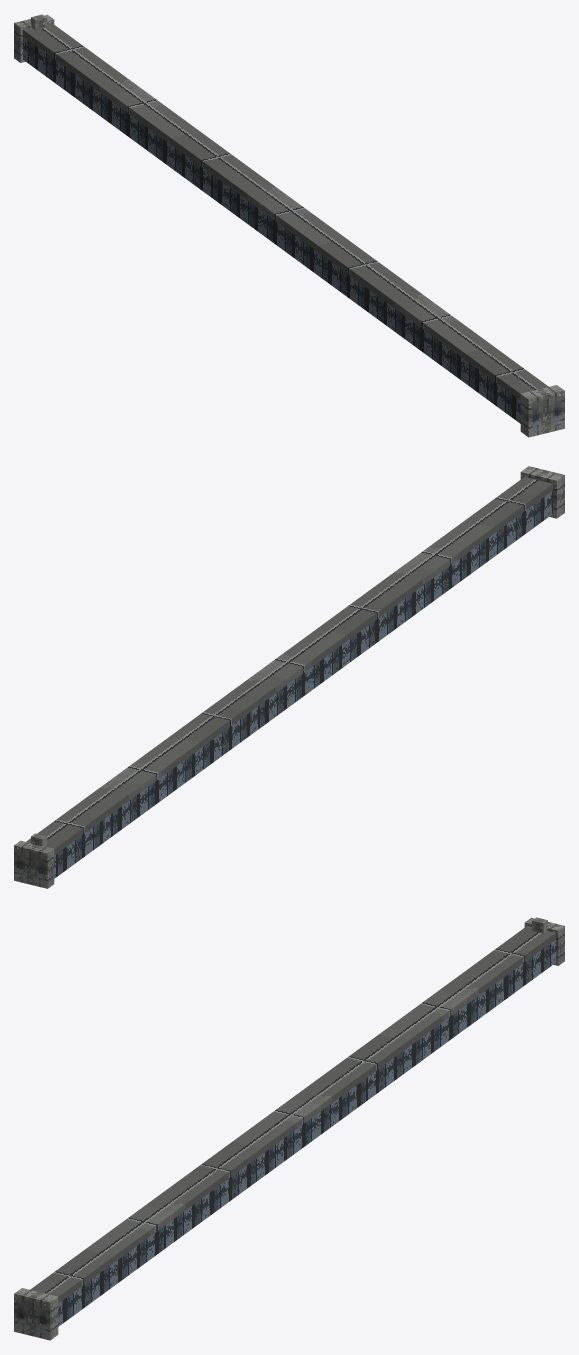
File: yk_span_beam.glb
3 renders of one model, top to bottom at view 1: azimuth 30°, elevation 25°; view 2: azimuth 150°, elevation 25°; view 3: azimuth 330°, elevation 25°, orthographic.
Parts seen in each view (by area): view 1: span_deck, span_web_-1, span_heel; view 2: span_deck, span_web_-1, span_toe, span_heel; view 3: span_deck, span_web_1, span_heel.
Part boxes in pixels (<box>): span_deck: <box>23,23,561,408</box>; span_web_-1: <box>23,36,538,432</box>; span_heel: <box>520,385,564,437</box>; span_deck: <box>16,477,552,862</box>; span_web_-1: <box>38,491,552,885</box>; span_toe: <box>14,840,54,888</box>; span_heel: <box>520,466,564,518</box>; span_deck: <box>17,926,555,1311</box>; span_web_1: <box>40,939,555,1335</box>; span_heel: <box>14,1288,58,1340</box>.
Size of the model in its own units: 0.57 by 0.66 by 14.05.
4 materials, 4 textured.
